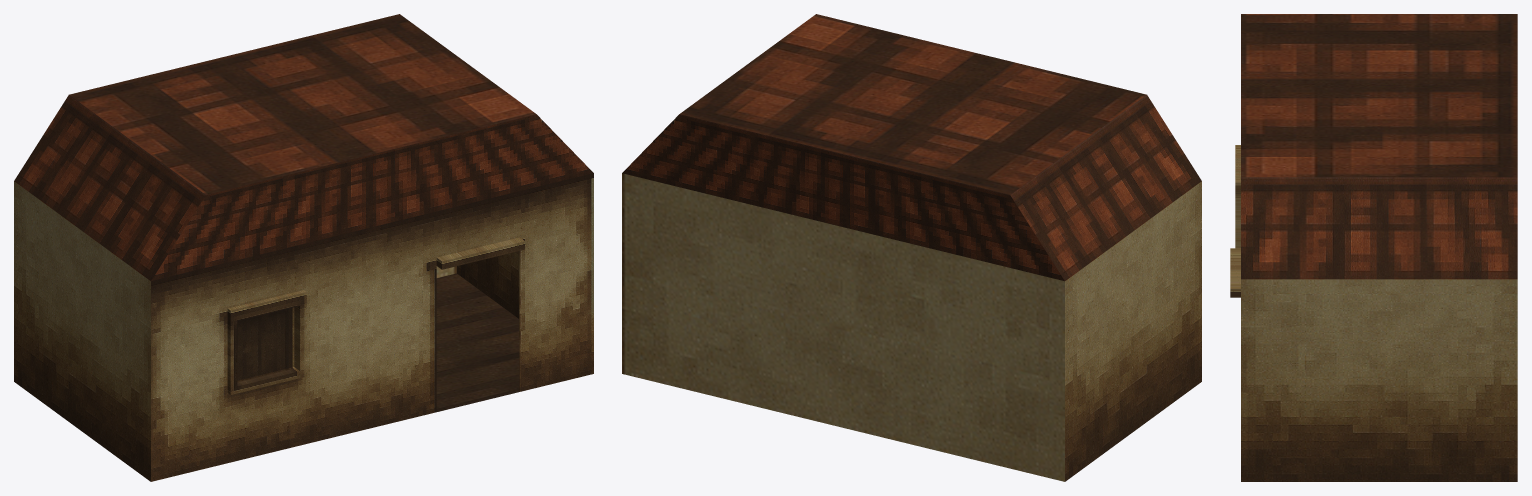
Rendered from House_1_no_door.obj.
The picture shows the model from 3 angles, left to right: view 1: azimuth 30°, elevation 25°; view 2: azimuth 150°, elevation 25°; view 3: azimuth 270°, elevation 25°; orthographic projection.
Visible parts, largest first — view 1: Cube; view 2: Cube; view 3: Cube.
Part boxes in pixels (x1,y1,x2,y2): Cube: (14, 14, 593, 481); Cube: (622, 14, 1201, 481); Cube: (1230, 14, 1517, 481).
Bounding box in the file's own units: 3.74 × 2.21 × 2.08.
